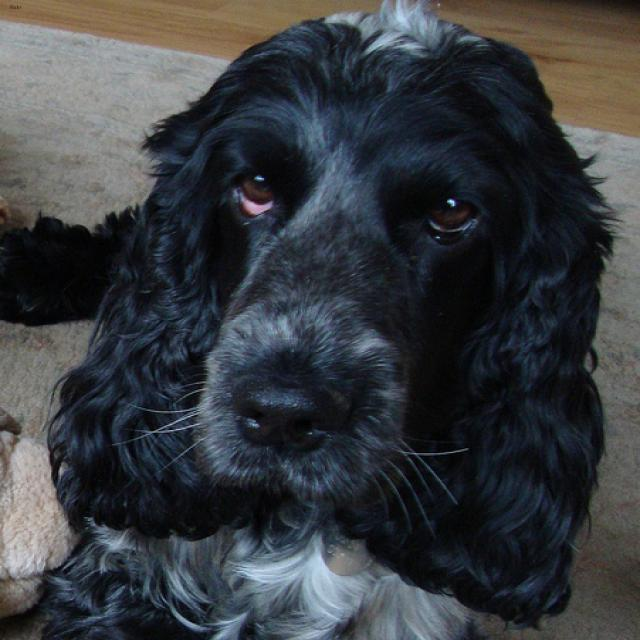dog-english_cocker_spaniel: (1, 1, 637, 637)
